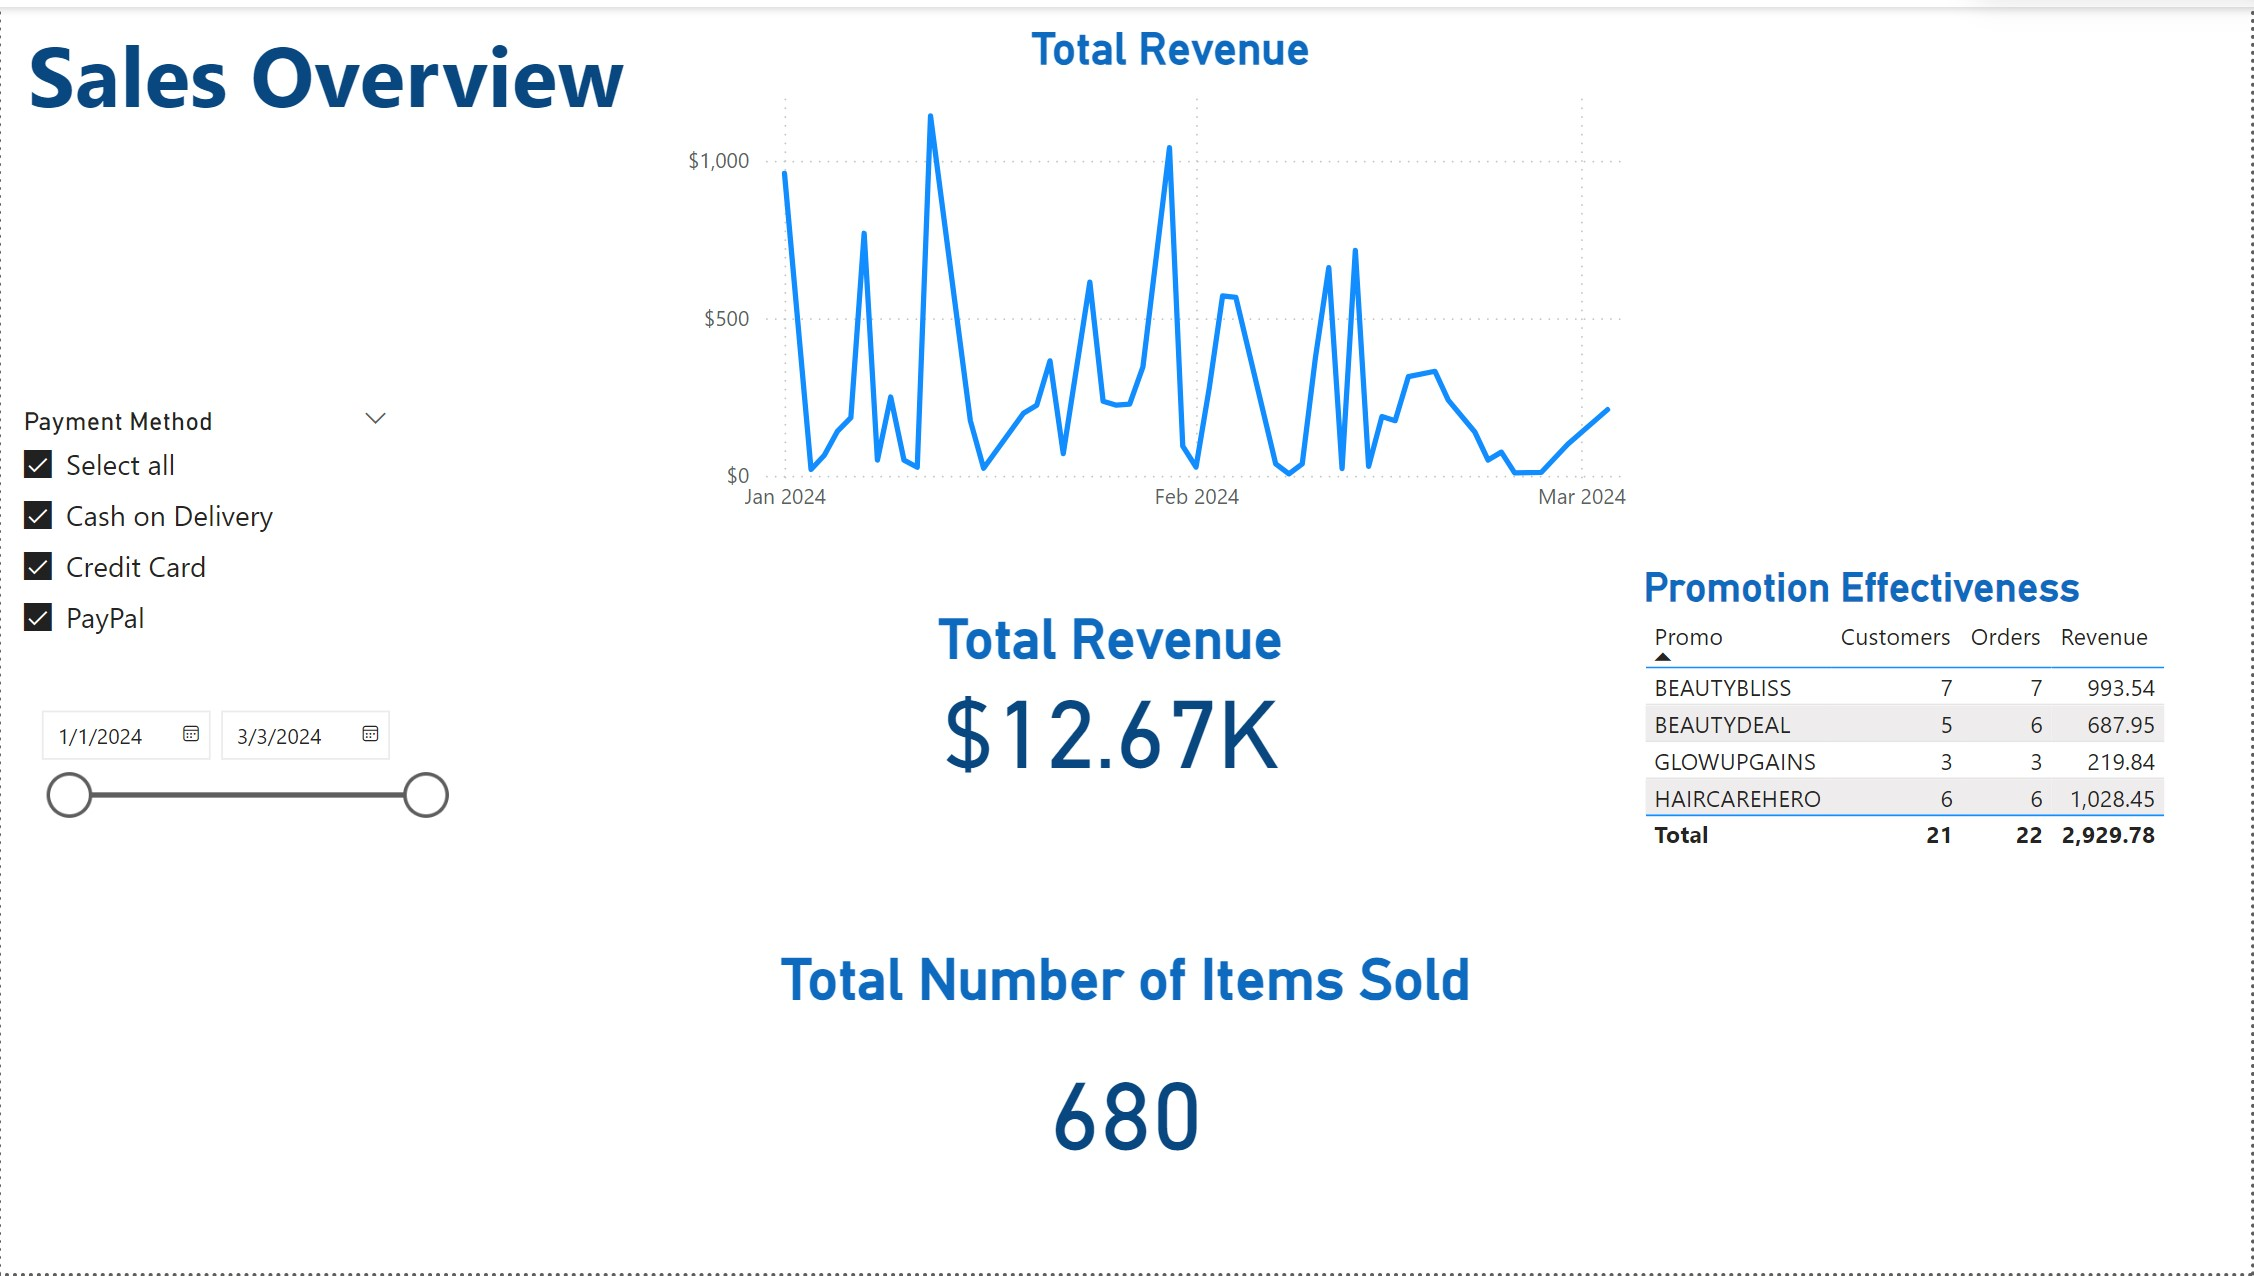

Layout of this report page (visuals, bound fields, positions):
{"tool":"powerbi","page":{"name":"Report","canvas":[1280,720],"ordinal":0},"visuals":[{"type":"slicer","fields":{"Values":["public vw_combinedperformance.paymentmethodname"]},"box":[0,221.8,232,147.9],"z":0},{"type":"slicer","fields":{"Values":["public vw_combinedperformance.orderdate"]},"box":[10.7,390,252.3,104],"z":1000},{"type":"lineChart","title":"Total Revenue","fields":{"Category":["public vw_combinedperformance.orderdate.Variation.Date Hierarchy.Year","public vw_combinedperformance.orderdate.Variation.Date Hierarchy.Quarter","public vw_combinedperformance.orderdate.Variation.Date Hierarchy.Month","public vw_combinedperformance.orderdate.Variation.Date Hierarchy.Day"],"Y":["Sum(public vw_combinedperformance.totalrevenue)"]},"box":[385.7,8.7,559.1,287.5],"z":2000},{"type":"tableEx","title":"Promotion Effectiveness","fields":{"Values":["public vw_combinedperformance.promotionname","Sum(public vw_combinedperformance.promotiontotalcustomers)","Sum(public vw_combinedperformance.promotiontotalorders)","Sum(public vw_combinedperformance.promotiontotalrevenue)"]},"box":[929.5,316.5,350.5,190.3],"z":3000},{"type":"card","title":"Total Number of Items Sold","fields":{"Values":["Sum(public vw_combinedperformance.totalquantitysold)"]},"box":[404.5,533.1,469.5,148.8],"z":4000},{"type":"card","title":"Total Revenue","fields":{"Values":["Sum(public vw_combinedperformance.totalrevenue)"]},"box":[404.5,340.9,452.2,101.1],"z":5000},{"type":"textbox","box":[10.1,0,375.6,86.7],"z":7000}]}

Visuals, with their boxes in screenshot pixels (x1, y1, x2, y2), scaled from the page's 1280x720 canvas onto the 2254x1276 screenshot:
slicer - public vw_combinedperformance.paymentmethodname: box=[0, 393, 409, 655]
slicer - public vw_combinedperformance.orderdate: box=[19, 691, 463, 875]
"Total Revenue" lineChart: box=[679, 15, 1664, 525]
"Promotion Effectiveness" tableEx: box=[1637, 561, 2253, 898]
"Total Number of Items Sold" card: box=[712, 945, 1539, 1208]
"Total Revenue" card: box=[712, 604, 1509, 783]
textbox: box=[18, 0, 679, 154]
